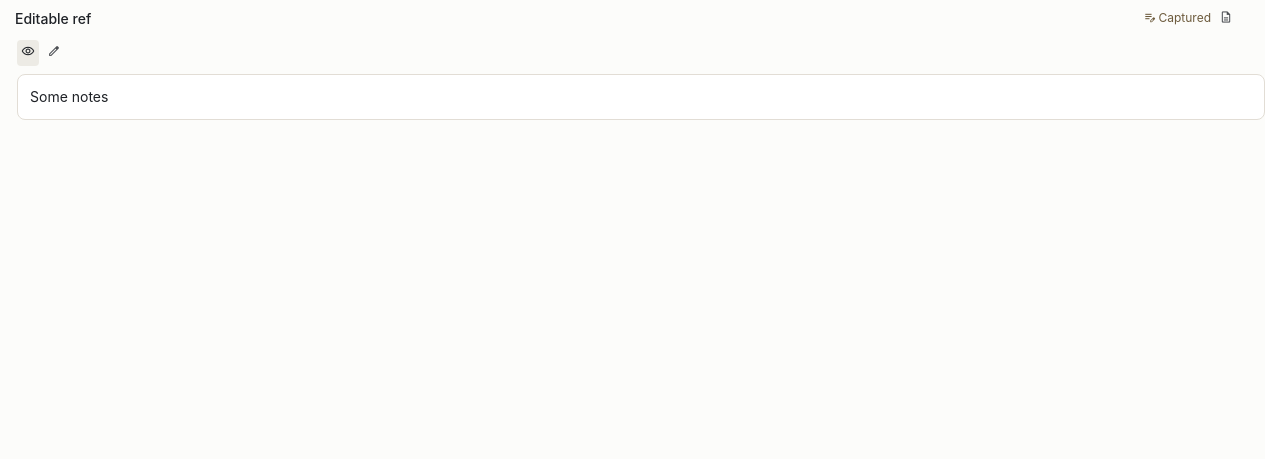
ReferenceRow › switches to editor when edit toggle is clicked
The width and height of the screenshot is (1265, 459).
What coordinates should you click on to do the following:
click the button named "Edit content"
I would click on:
 (54, 53)
Its box is x1=43 y1=40 x2=65 y2=66.
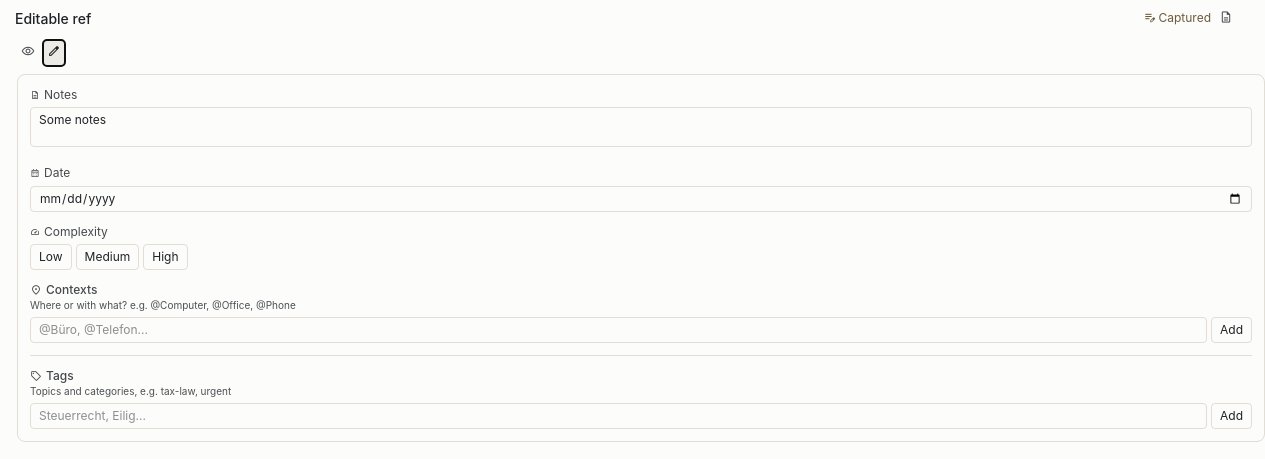
Result: the text box named "notes" holds "Some notes" at x1=30 y1=107 x2=1252 y2=147
